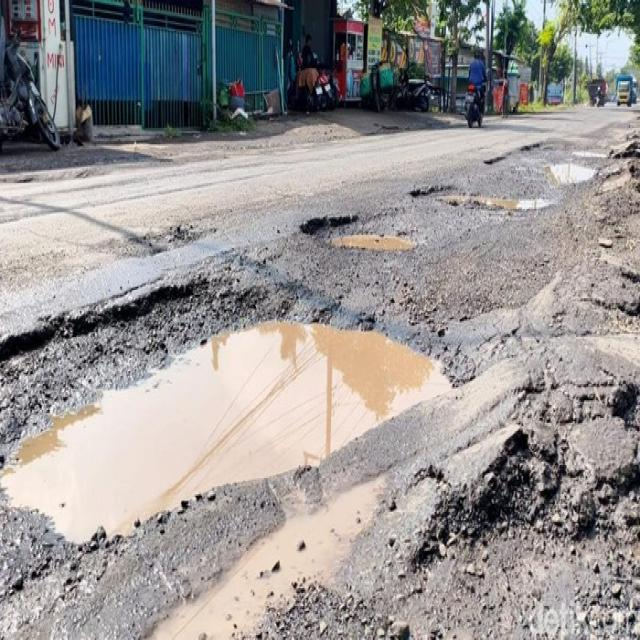alligator_crack: (403, 282, 640, 591)
pothole: (1, 264, 505, 637), (308, 224, 428, 262), (452, 191, 516, 217), (553, 159, 595, 180), (521, 173, 552, 190)
